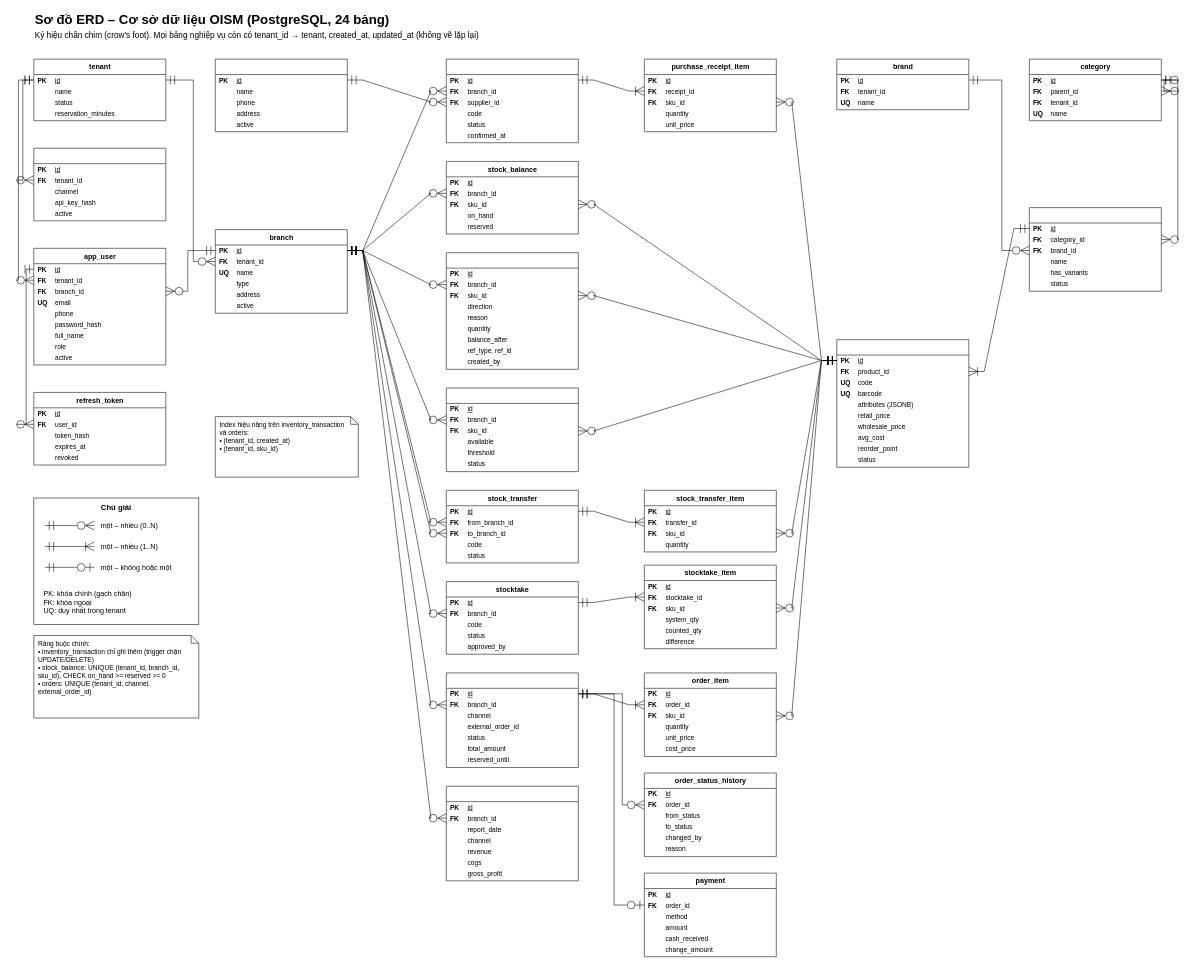
The diagram is 1197 pixels wide and 966 high, and some of its shapes have lost their labels. Here are the shapes that lost their labels. From the top down, the box of each, then its label:
(215, 59, 347, 132): supplier
(446, 59, 578, 143): purchase_receipt
(33, 148, 166, 221): channel_credential
(1029, 207, 1161, 291): product
(446, 252, 578, 369): inventory_transaction
(836, 339, 969, 467): sku
(446, 387, 578, 472): stock_alert
(446, 672, 578, 768): orders
(446, 786, 578, 881): daily_report
